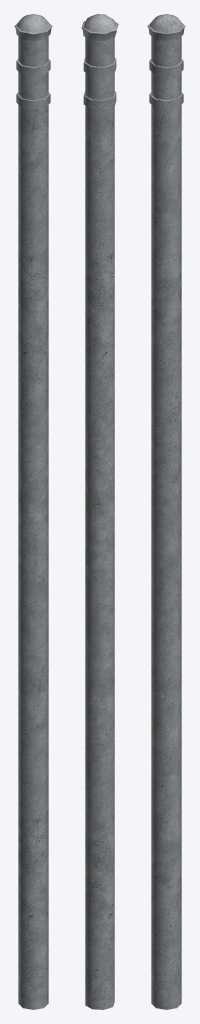
File: FencePost_6ft.fbx
3 views of the same model, side by side, from view 1: azimuth 90°, elevation 25°; view 2: azimuth 150°, elevation 25°; view 3: azimuth 270°, elevation 25° (orthographic).
Visible parts, largest first — view 1: FencePost_6ft; view 2: FencePost_6ft; view 3: FencePost_6ft.
Boxes of the visible parts, <box> form: FencePost_6ft: <box>14,14,52,1009</box>; FencePost_6ft: <box>81,14,118,1009</box>; FencePost_6ft: <box>147,14,185,1009</box>.
Bounding box in the file's own units: 7.63 × 216 × 7.63.
1 material, 1 textured.
